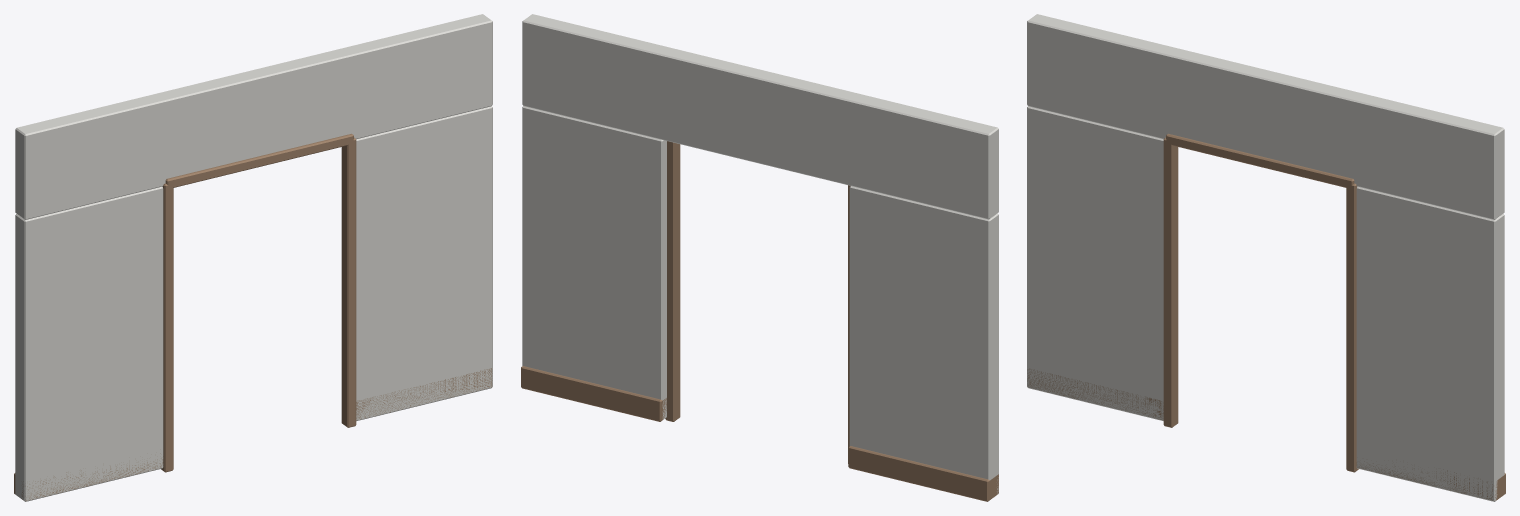
The model's file is SM_Wall_Interior_Opening.fbx.
3 renders of one model, left to right at view 1: azimuth 30°, elevation 25°; view 2: azimuth 150°, elevation 25°; view 3: azimuth 330°, elevation 25°, orthographic.
Visible parts, largest first — view 1: Wall_Interior_Opening; view 2: Wall_Interior_Opening; view 3: Wall_Interior_Opening.
Boxes of the visible parts, x1,y1,x2,y2 form: Wall_Interior_Opening: (14,14,492,501); Wall_Interior_Opening: (521,14,998,501); Wall_Interior_Opening: (1027,14,1505,501).
Size of the model in its own units: 400 by 302 by 19.5.
